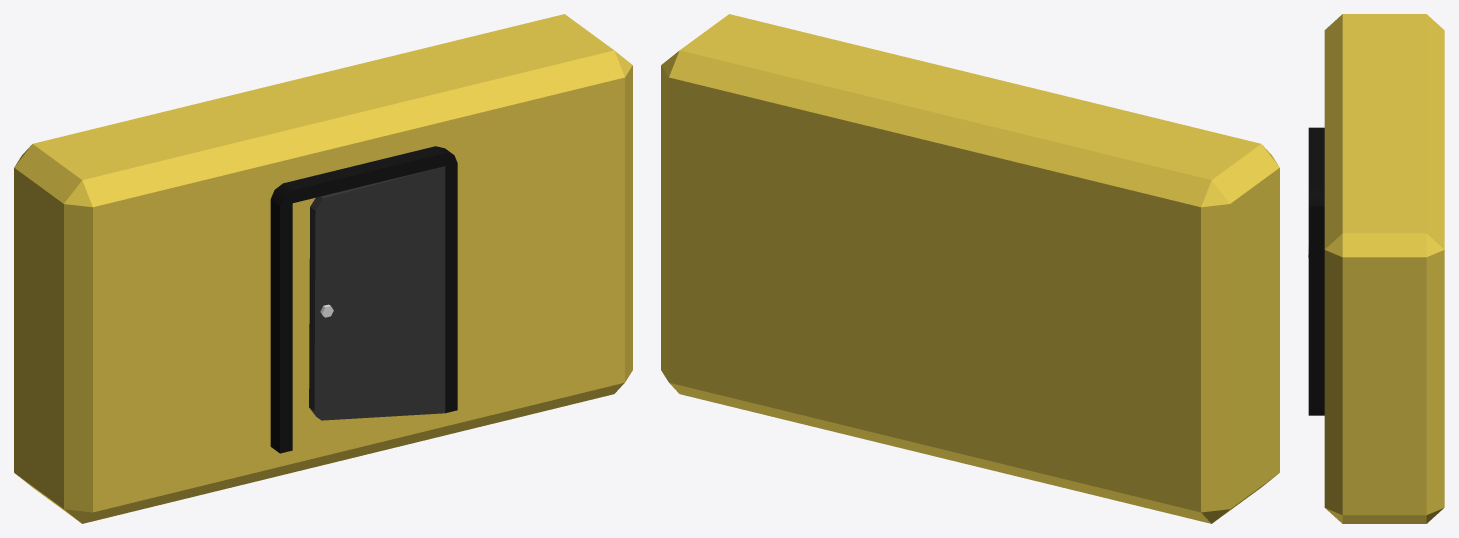
The model's file is go back button.fbx.
The picture shows the model from 3 angles, left to right: view 1: azimuth 30°, elevation 25°; view 2: azimuth 150°, elevation 25°; view 3: azimuth 270°, elevation 25°; orthographic projection. The views are drawn at different scales.
Parts seen in each view (by area): view 1: polySurface5; view 2: polySurface5; view 3: polySurface5.
Boxes of the visible parts, x1,y1,x2,y2 form: polySurface5: (14, 14, 632, 523); polySurface5: (661, 14, 1279, 523); polySurface5: (1308, 14, 1444, 523).
Bounding box in the file's own units: 99.29 × 57.32 × 24.36.
